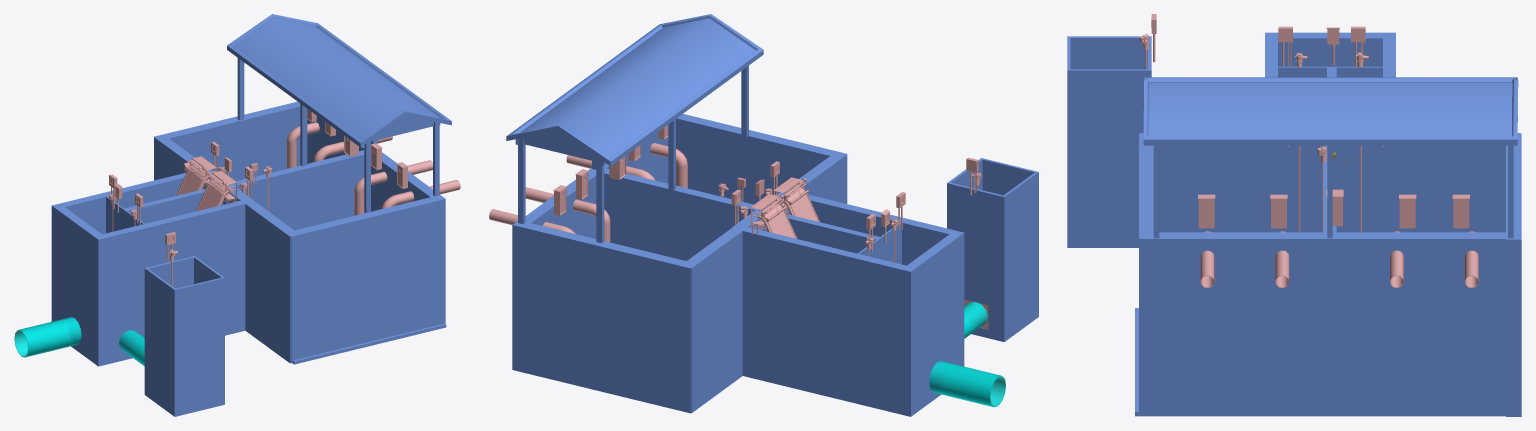
Rendered from Shahu.fbx.
The picture shows the model from 3 angles, left to right: view 1: azimuth 30°, elevation 25°; view 2: azimuth 150°, elevation 25°; view 3: azimuth 270°, elevation 25°; orthographic projection. The views are drawn at different scales.
Parts seen in each view (by area): view 1: polySurface15436, polySurface12441, polySurface15426, polySurface12995, polySurface15435, polySurface12991, polySurface15437, polySurface15425, polySurface15424, polySurface15438, polySurface8056, polySurface12985 (+10 smaller); view 2: polySurface15437, polySurface15424, polySurface12441, polySurface12995, polySurface12991, polySurface15434, polySurface15436, polySurface15425, polySurface15426, polySurface15438, polySurface8056, polySurface12985 (+7 smaller); view 3: polySurface15438, polySurface12441, polySurface12995, polySurface15435, polySurface15434, polySurface15430, polySurface15429, polySurface15437, polySurface15425, polySurface15436, polySurface12993, polySurface3236 (+13 smaller).
Boxes of the visible parts, x1=… form: polySurface15436: x1=290, y1=197, x2=444, y2=363; polySurface12441: x1=227, y1=14, x2=451, y2=212; polySurface15426: x1=93, y1=200, x2=247, y2=366; polySurface12995: x1=144, y1=256, x2=224, y2=416; polySurface15435: x1=245, y1=199, x2=299, y2=363; polySurface12991: x1=231, y1=150, x2=365, y2=230; polySurface15437: x1=154, y1=101, x2=300, y2=181; polySurface15425: x1=52, y1=204, x2=102, y2=362; polySurface15424: x1=51, y1=173, x2=203, y2=321; polySurface15438: x1=307, y1=116, x2=445, y2=323; polySurface8056: x1=14, y1=317, x2=81, y2=357; polySurface12985: x1=124, y1=188, x2=223, y2=223; polySurface15437: x1=512, y1=221, x2=696, y2=413; polySurface15424: x1=740, y1=226, x2=916, y2=416; polySurface12441: x1=506, y1=14, x2=763, y2=243; polySurface12995: x1=947, y1=158, x2=1038, y2=342; polySurface12991: x1=604, y1=168, x2=756, y2=260; polySurface15434: x1=681, y1=226, x2=742, y2=413; polySurface15436: x1=676, y1=114, x2=846, y2=204; polySurface15425: x1=902, y1=231, x2=963, y2=412; polySurface15426: x1=808, y1=194, x2=964, y2=366; polySurface15438: x1=517, y1=132, x2=668, y2=238; polySurface8056: x1=929, y1=361, x2=1005, y2=407; polySurface12985: x1=767, y1=214, x2=881, y2=253; polySurface15438: x1=1140, y1=232, x2=1519, y2=416; polySurface12441: x1=1143, y1=77, x2=1518, y2=238; polySurface12995: x1=1067, y1=36, x2=1151, y2=247; polySurface15435: x1=1140, y1=133, x2=1269, y2=232; polySurface15434: x1=1394, y1=133, x2=1520, y2=232; polySurface15430: x1=1336, y1=145, x2=1393, y2=232; polySurface15429: x1=1269, y1=145, x2=1322, y2=232; polySurface15437: x1=1506, y1=133, x2=1521, y2=416; polySurface15425: x1=1266, y1=32, x2=1393, y2=66; polySurface15436: x1=1139, y1=133, x2=1153, y2=411; polySurface12993: x1=1269, y1=66, x2=1332, y2=77; polySurface3236: x1=1399, y1=194, x2=1416, y2=228.
Bounding box in the file's own units: 51.09 × 28.06 × 36.67.
